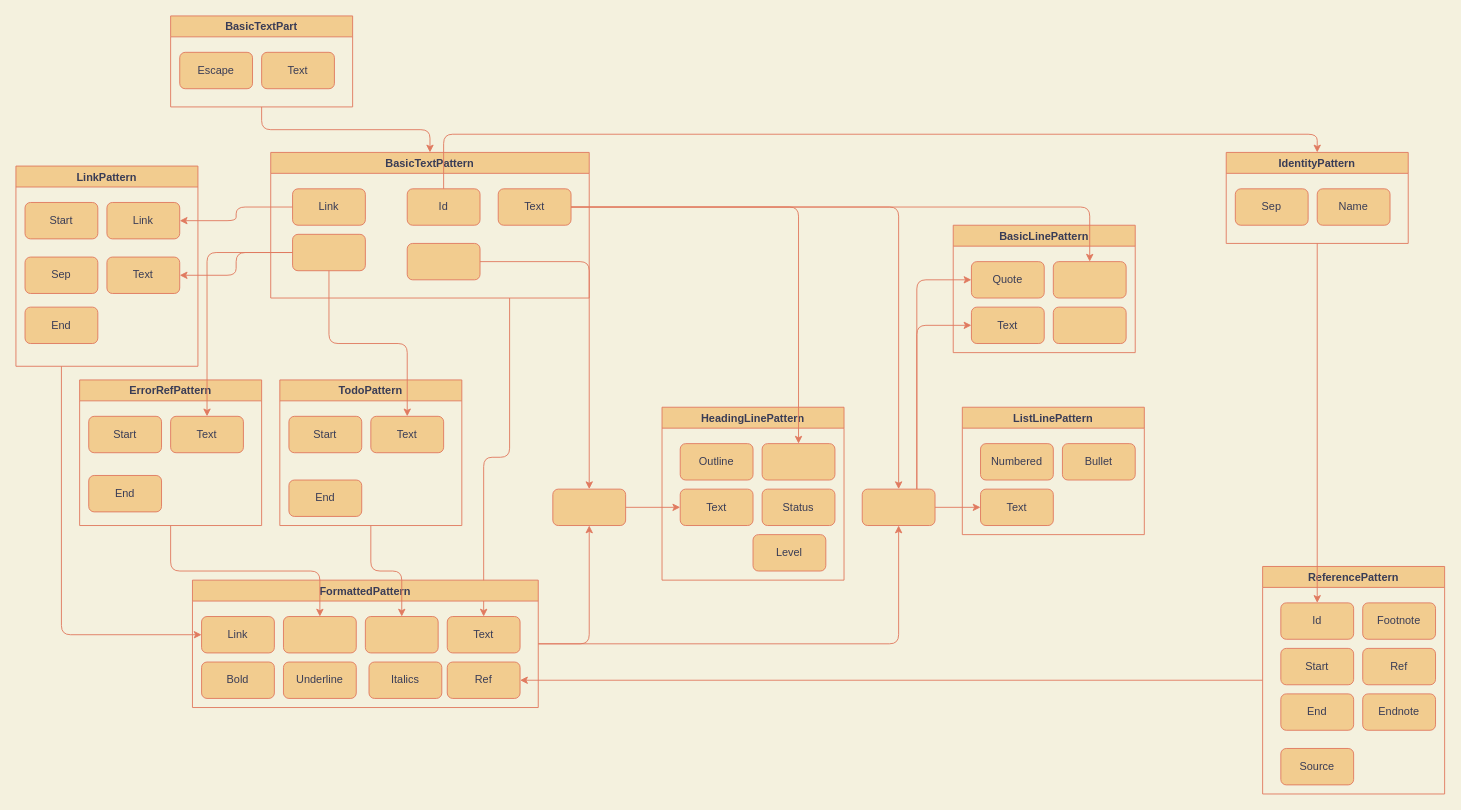
Some shapes in this 1461 by 810 pixel diagram are drawn without their labels. The centre of each missing label's shape, as x and y in pixels:
Agenda: the point at 1089,279
Break: the point at 1089,325
Details: the point at 798,461
Err: the point at 319,634
Heading: the point at 443,261
Heading + Formatted: the point at 589,507
Special: the point at 328,252
Text + Formatted: the point at 898,507
Todo: the point at 401,634
